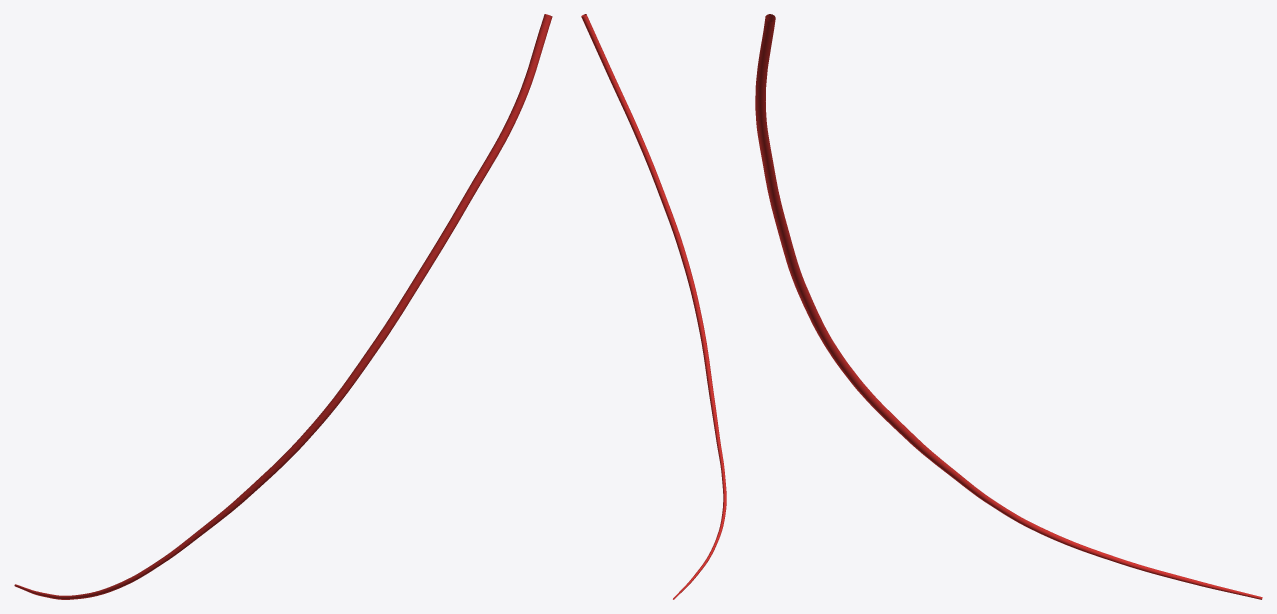
The model's file is circulatorio-musculophrenic-artery-r.glb.
3 renders of one model, left to right at view 1: azimuth 30°, elevation 25°; view 2: azimuth 150°, elevation 25°; view 3: azimuth 270°, elevation 25°, orthographic. The views are drawn at different scales.
Parts seen in each view (by area): view 1: Musculophrenic artery.r; view 2: Musculophrenic artery.r; view 3: Musculophrenic artery.r.
Part boxes in pixels (left/top/right/bottom): Musculophrenic artery.r: left=14, top=14, right=552, bottom=599; Musculophrenic artery.r: left=581, top=14, right=726, bottom=599; Musculophrenic artery.r: left=755, top=14, right=1262, bottom=599.
Size of the model in its own units: 0.0997 by 0.1786 by 0.1049.
